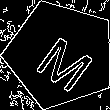M_NE: (26, 21, 95, 89)
